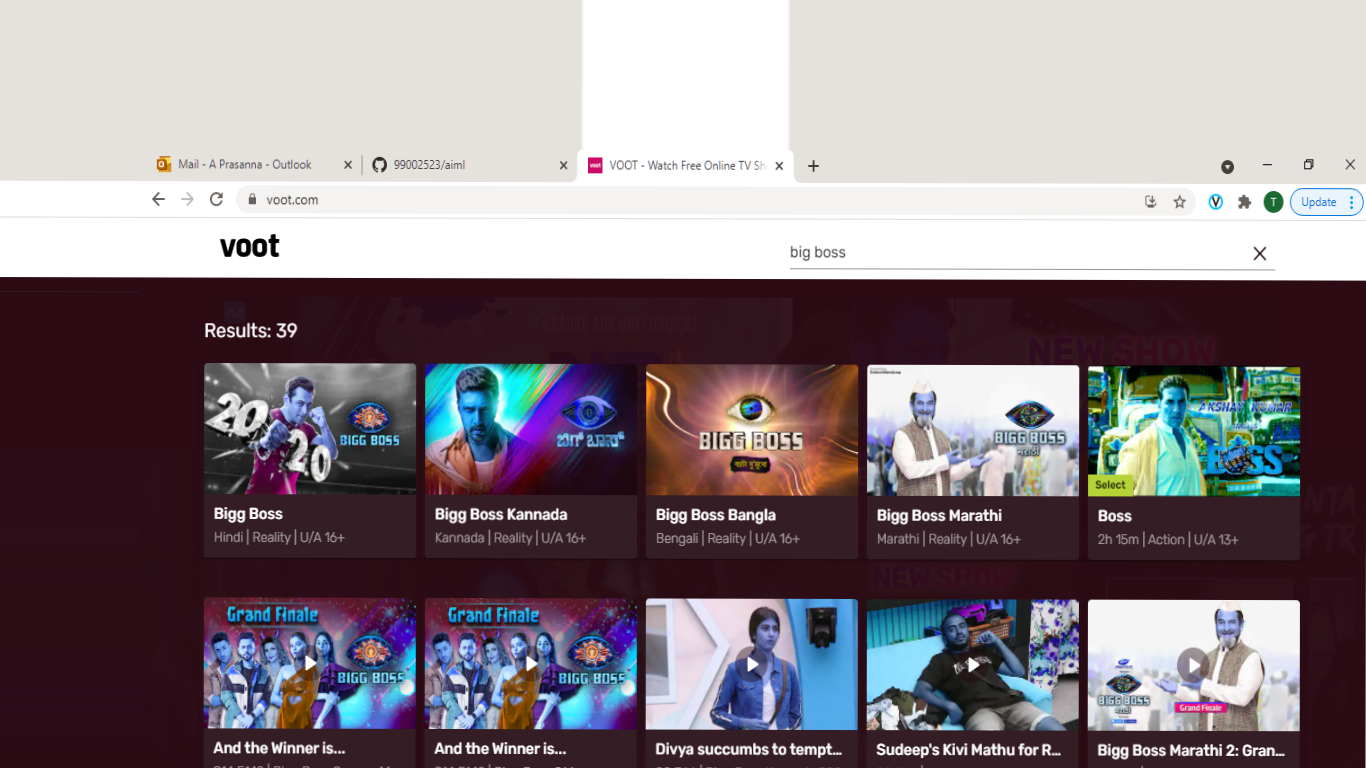resultsfound: (197, 301, 335, 348)
searchtextbox: (768, 223, 1277, 277)
